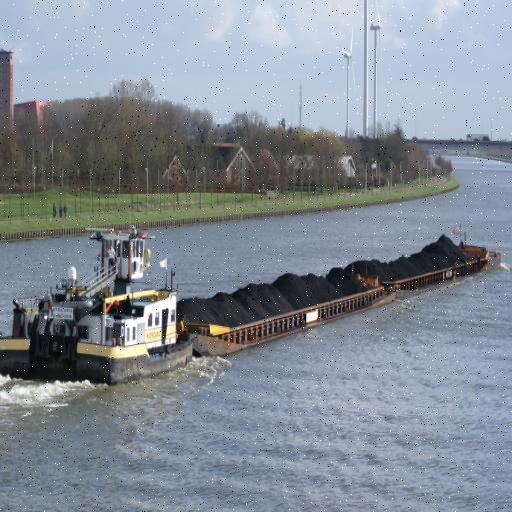tugboat: (1, 223, 197, 391)
